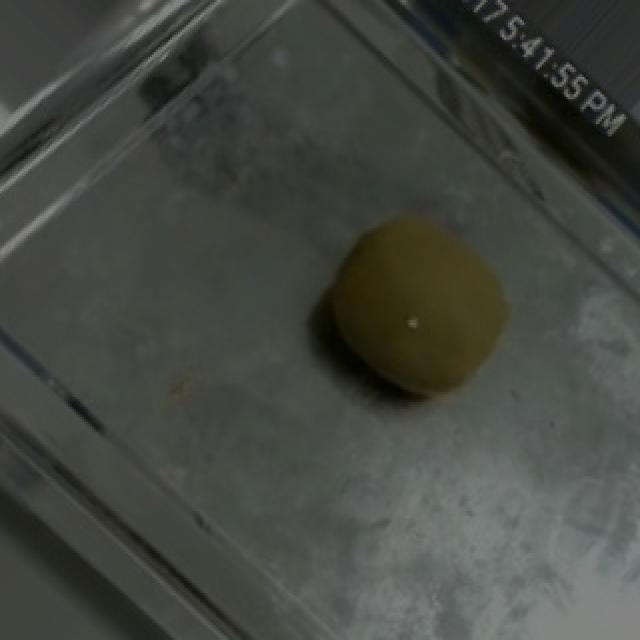Fruit: (286, 171, 550, 429)
